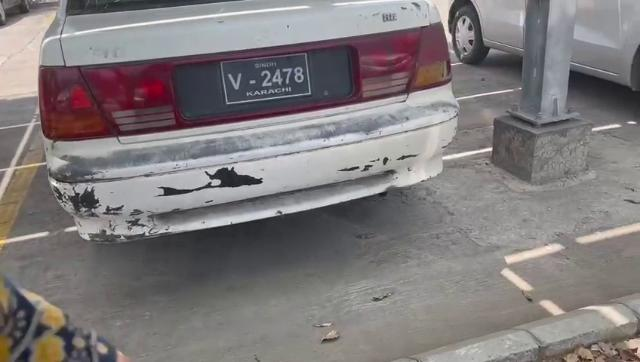plate: (223, 52, 312, 103)
